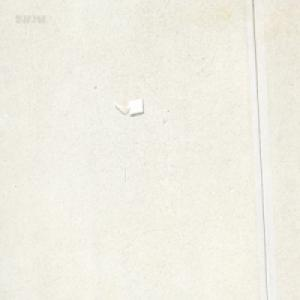LuggageTag: (111, 96, 144, 115)
